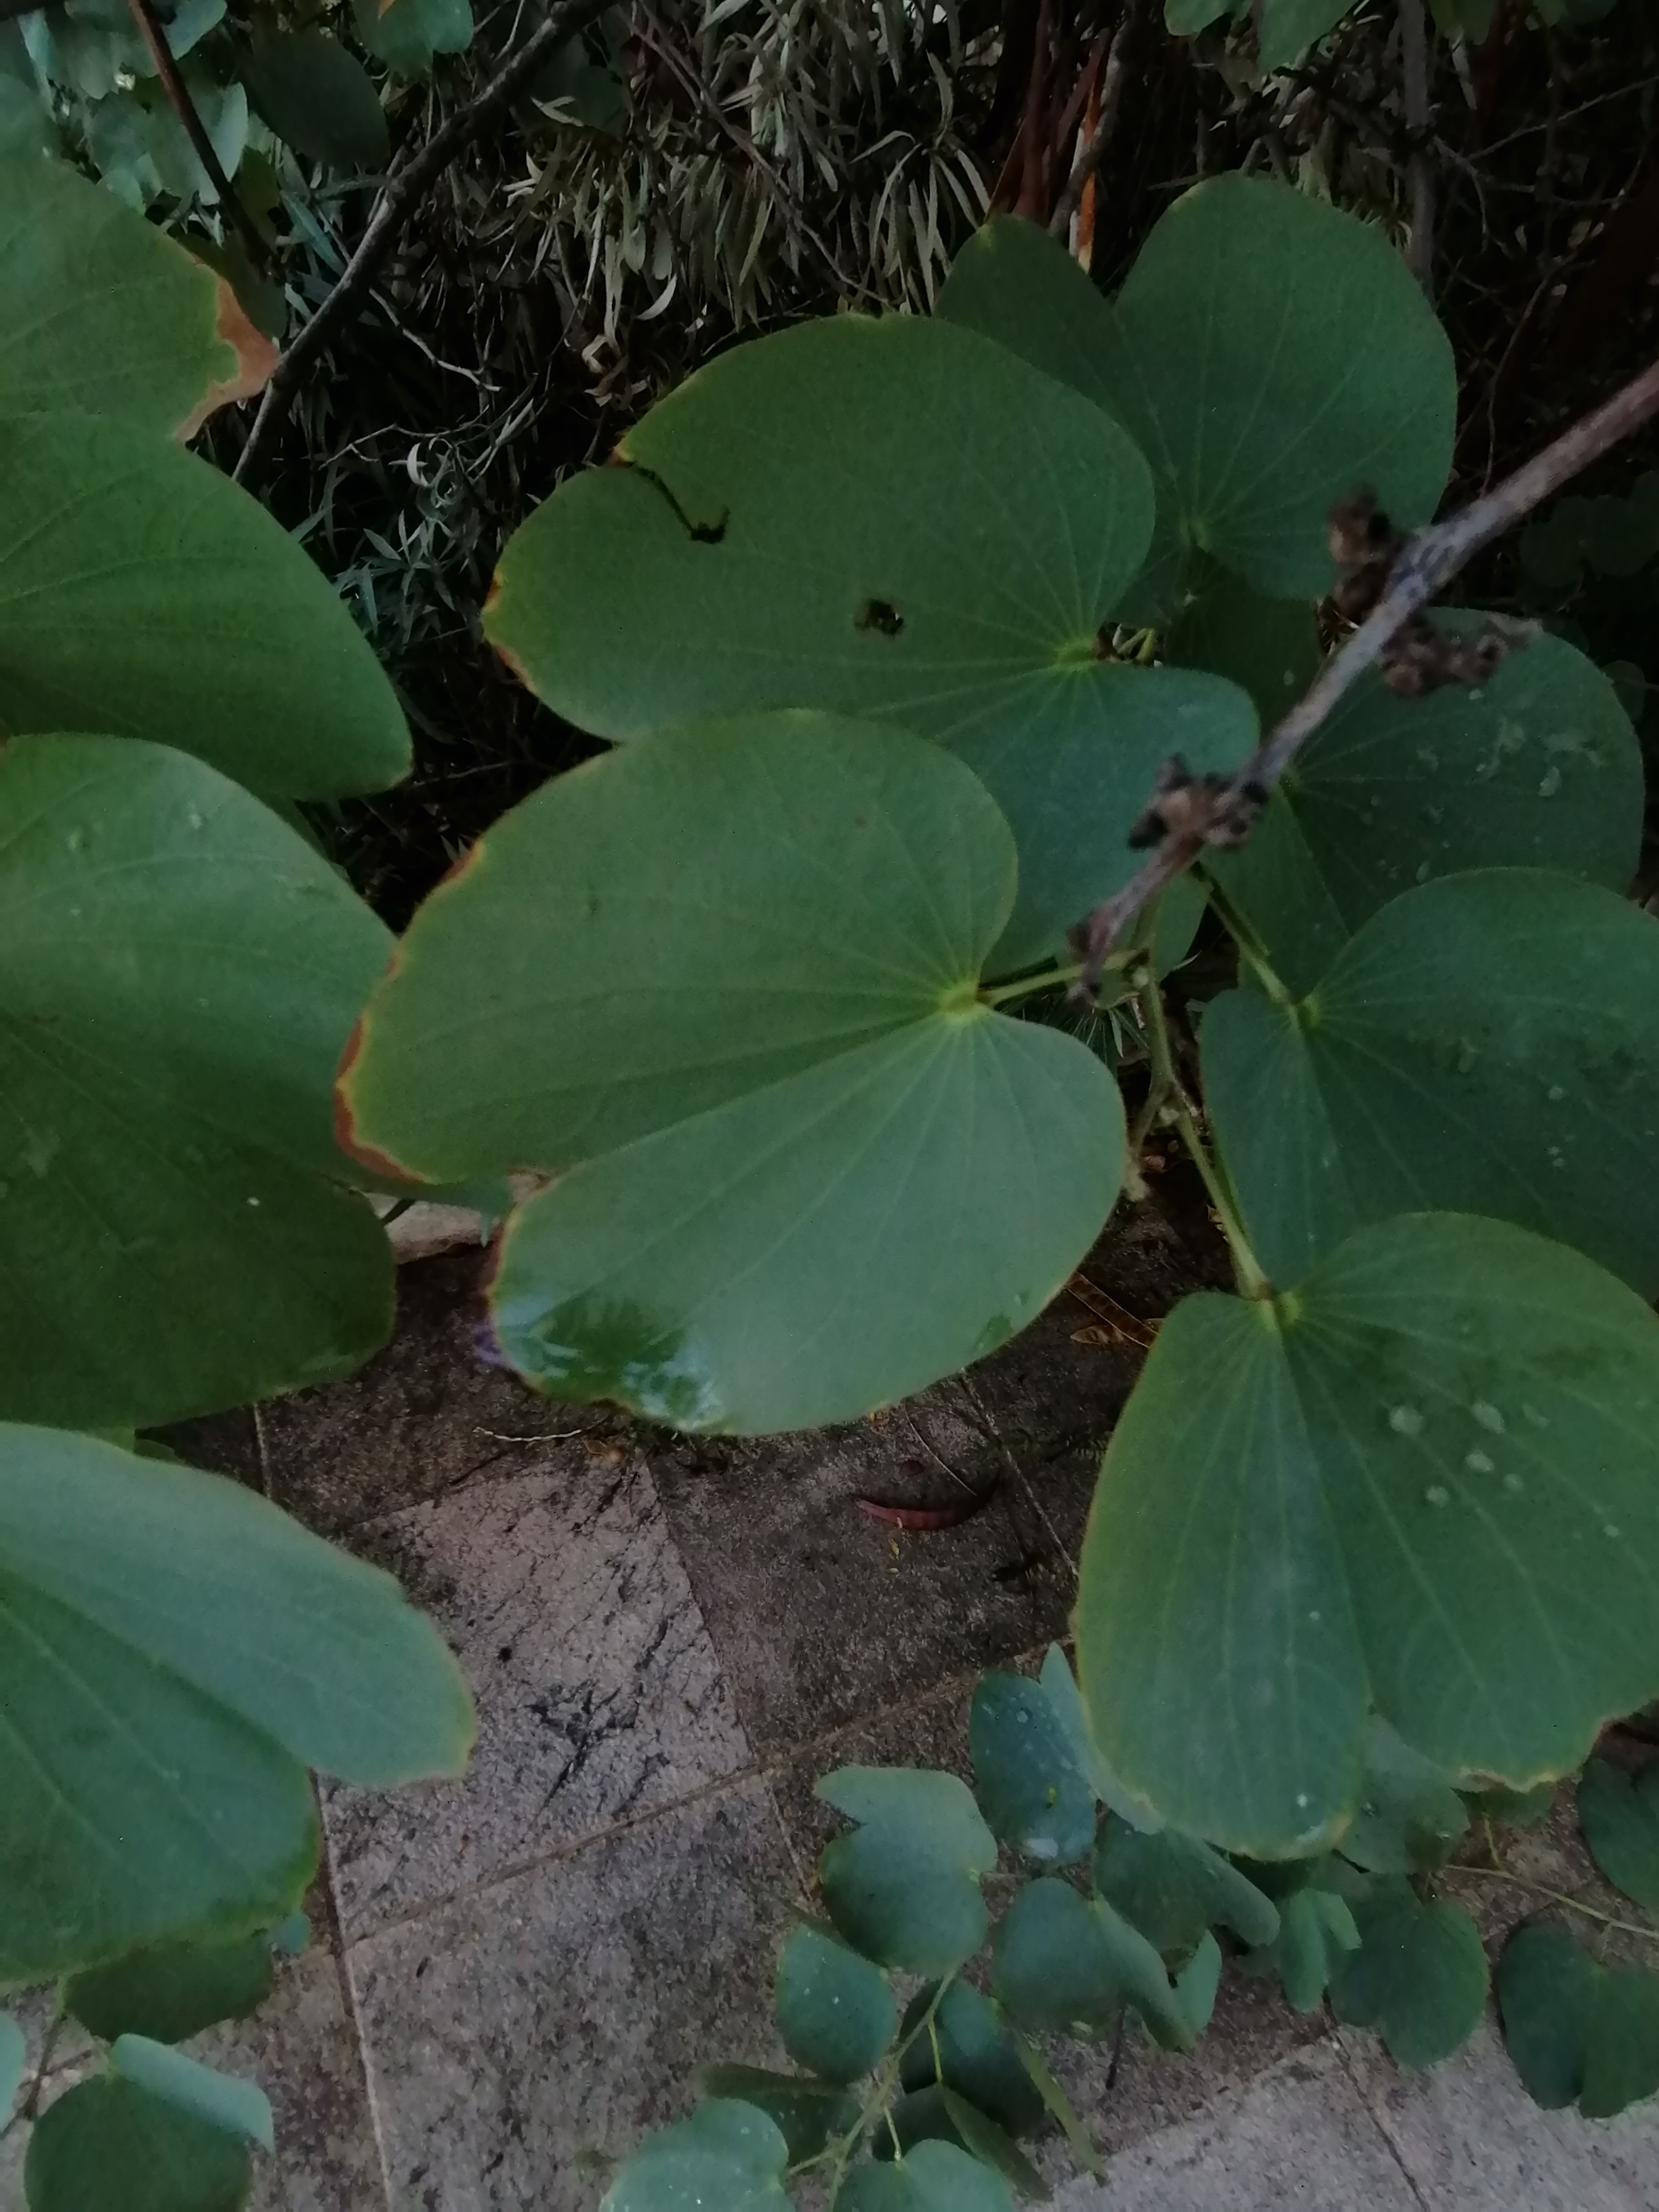healthy: (1126, 1287, 1659, 1879)
nothealthy: (349, 705, 1054, 1477), (477, 343, 1244, 864)
